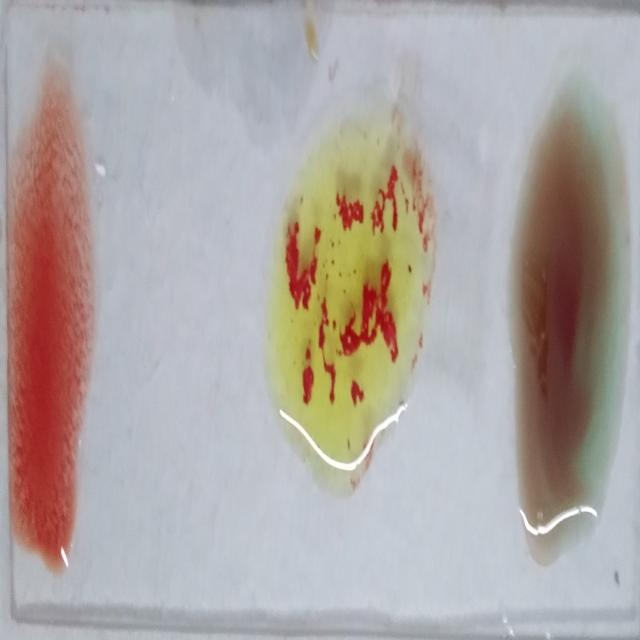B: (274, 116, 432, 478)
D: (10, 77, 91, 565)
